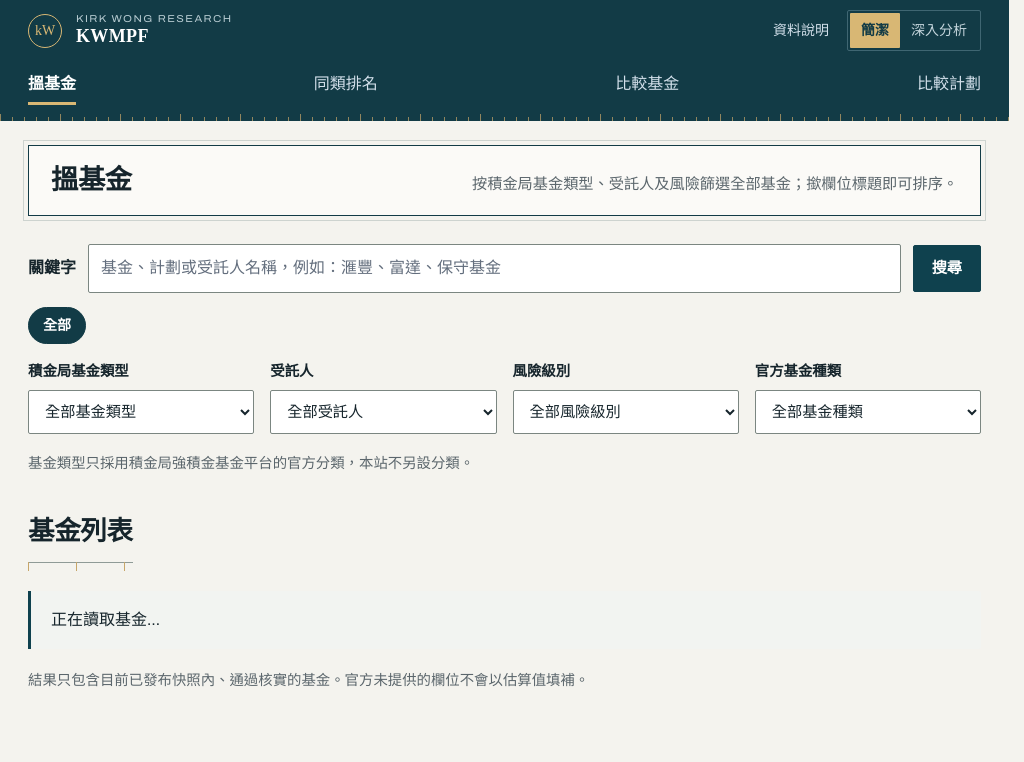
Scenario: fund browse page › shows the official figures and source date for each match
Step 1. Select "Equity Fund" in the dropdown labelled "官方基金種類" → (868, 412), box [755,390,981,434]
(page scrolled)
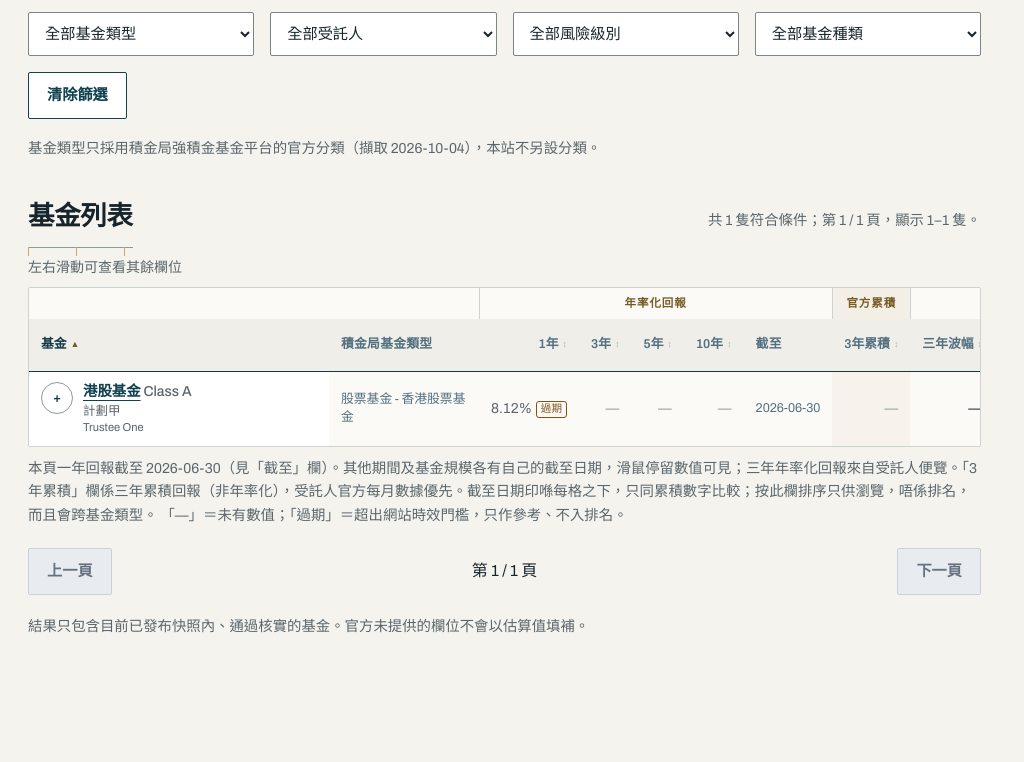
Expected: the text "8.12%" is shown, [479,371,579,446]
Expected: the text "本頁一年回報截至 2026-06-30" is shown, [28,460,221,476]
Expected: the text "過期" is shown, [536,401,567,418]
